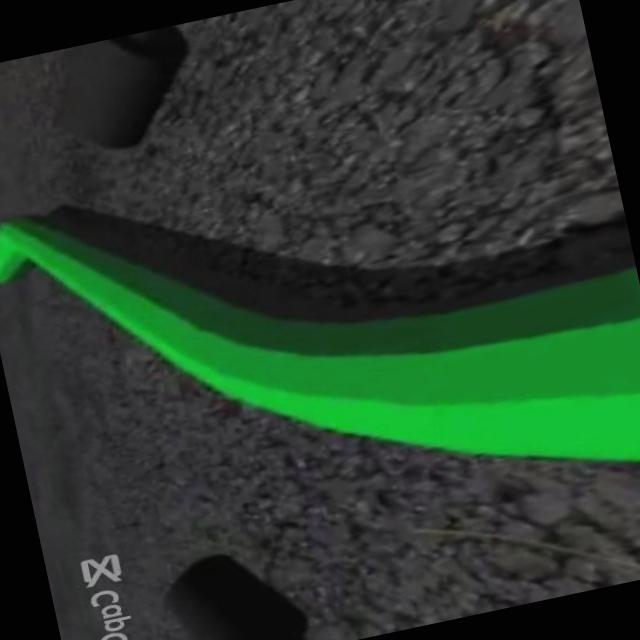gas: (73, 160, 640, 576)
